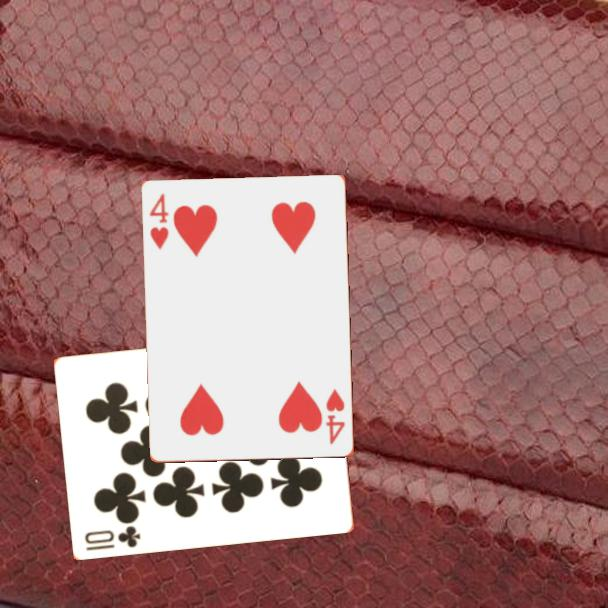c10: (82, 522, 144, 553)
h04: (322, 385, 348, 448), (147, 190, 172, 253)
